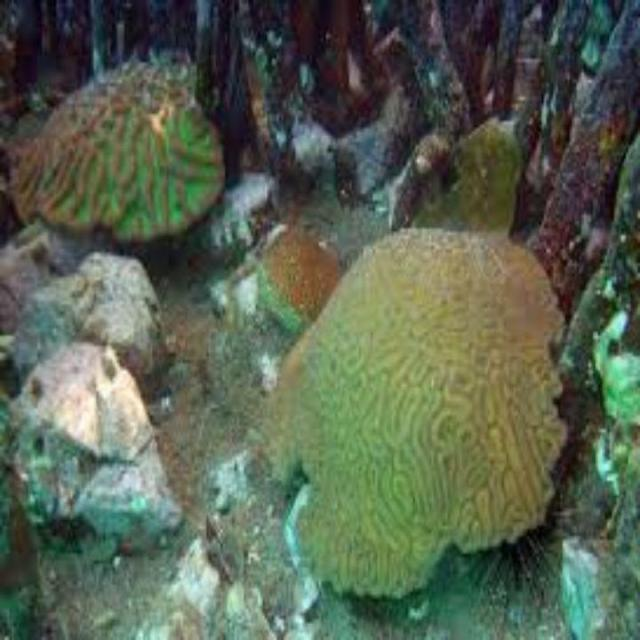Healthy Coral: (253, 217, 594, 611), (23, 39, 236, 238)
